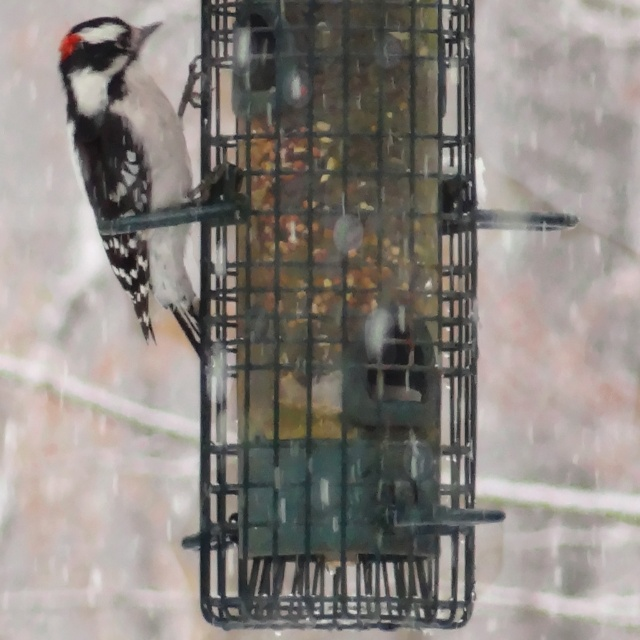Woodpecker: (56, 14, 207, 369)
